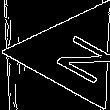N_NW: (36, 23, 108, 85)
